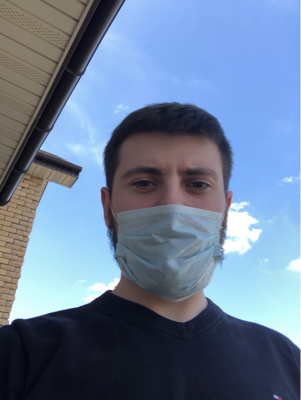with_mask: (116, 156, 225, 302)
